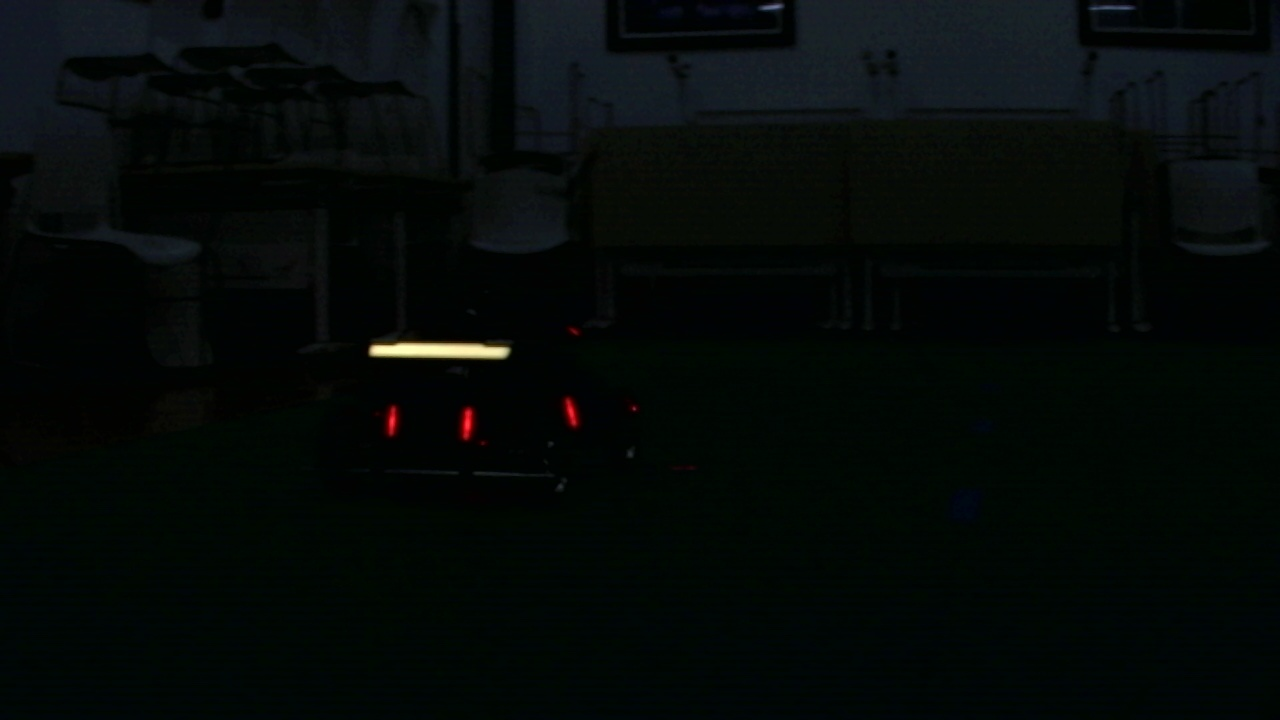lamp: (459, 403, 477, 442), (383, 399, 400, 436), (566, 397, 578, 428)
pair1: (386, 401, 472, 442)
